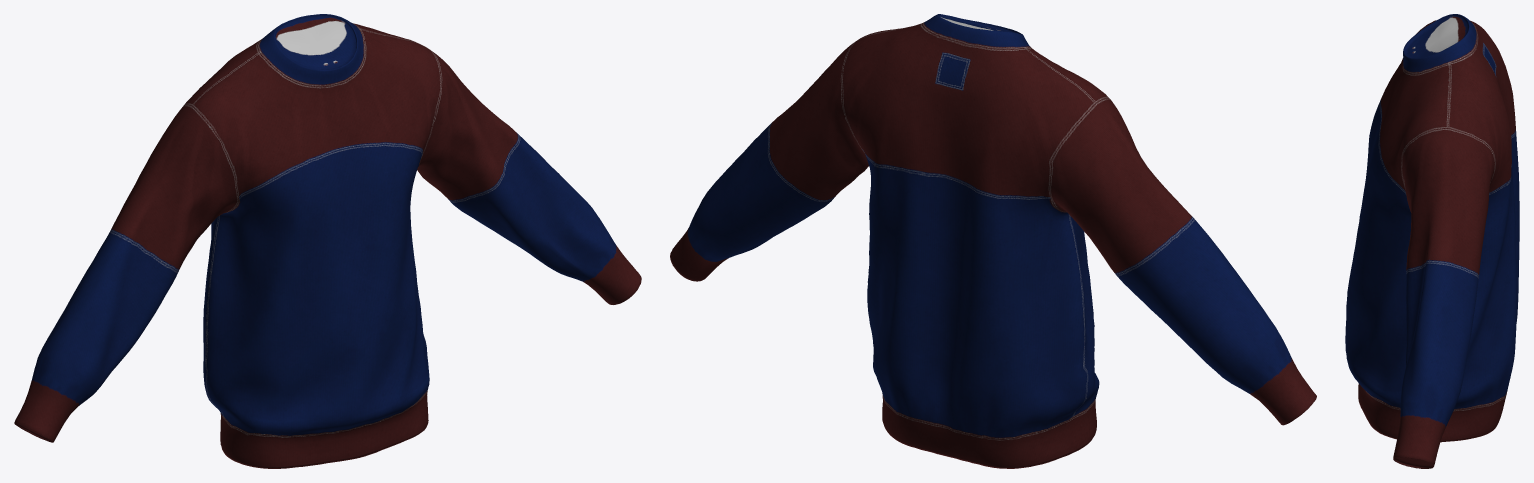
File: basic_sweatshirt.glb
3 views of the same model, side by side, from view 1: azimuth 30°, elevation 25°; view 2: azimuth 150°, elevation 25°; view 3: azimuth 270°, elevation 25° (orthographic). The views are drawn at different scales.
Parts seen in each view (by area): view 1: Plane; view 2: Plane; view 3: Plane.
Boxes of the visible parts, <box> form: Plane: <box>14,14,641,468</box>; Plane: <box>670,14,1316,468</box>; Plane: <box>1345,14,1519,468</box>.
Size of the model in its own units: 11.58 by 7.28 by 3.01.
1 material, 1 textured.
